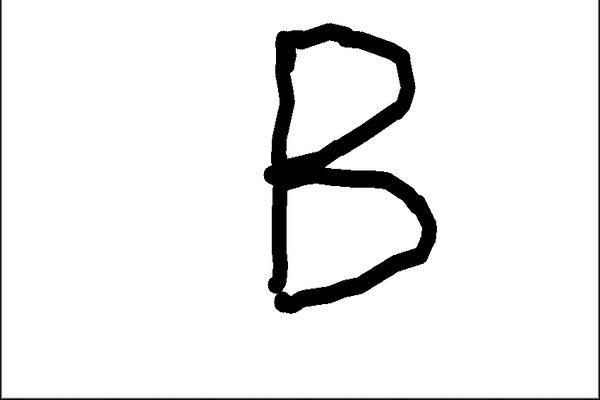B: (257, 15, 444, 321)
